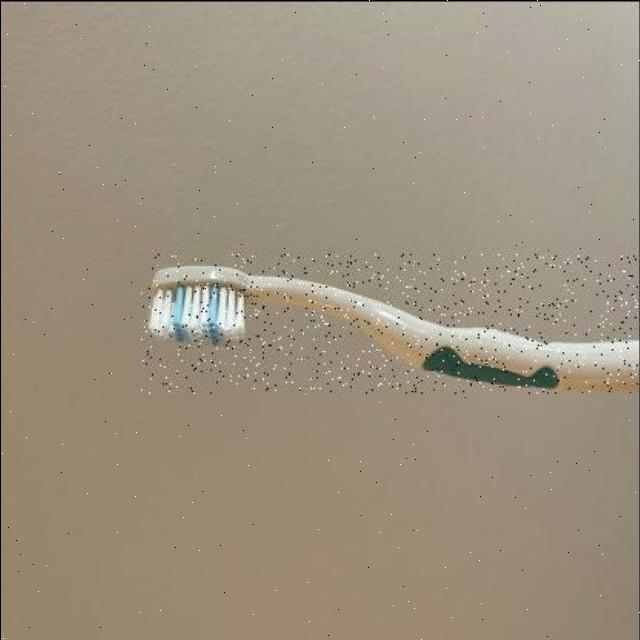toothbrush: (142, 252, 640, 392)
